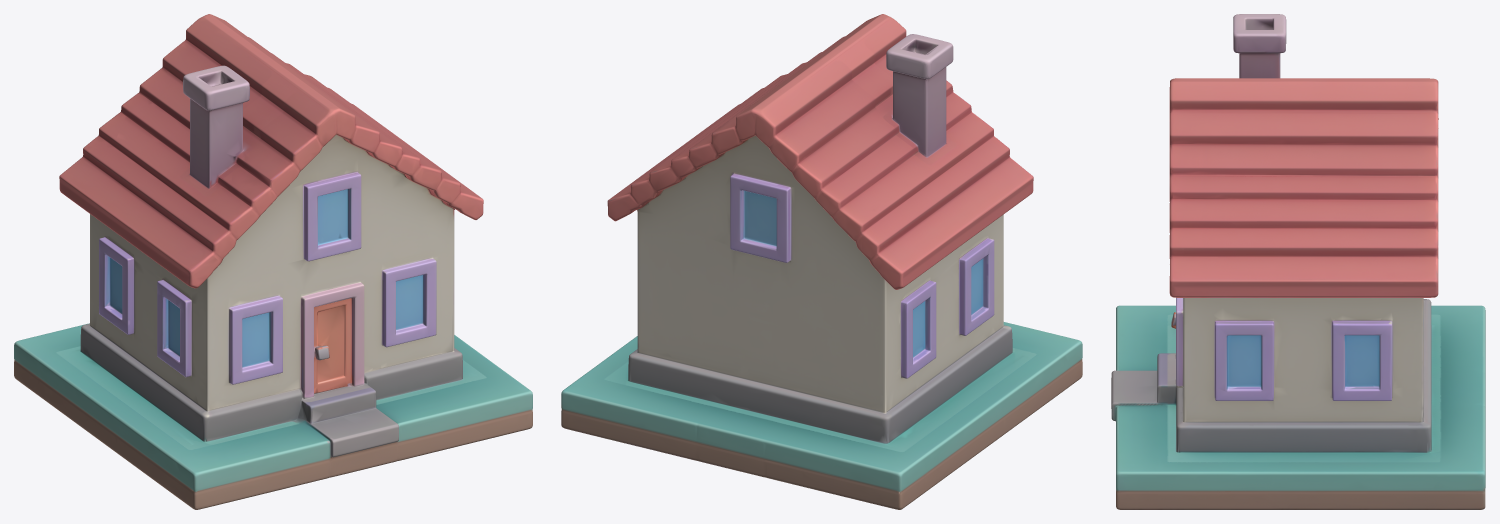
File: konut.glb
The picture shows the model from 3 angles, left to right: view 1: azimuth 30°, elevation 25°; view 2: azimuth 150°, elevation 25°; view 3: azimuth 270°, elevation 25°; orthographic projection.
Visible parts, largest first — view 1: node_0; view 2: node_0; view 3: node_0.
Part boxes in pixels (left/top/right/bottom): node_0: left=14, top=14, right=532, bottom=509; node_0: left=561, top=14, right=1082, bottom=509; node_0: left=1111, top=14, right=1485, bottom=509.
Size of the model in its own units: 0.7091 by 0.7183 by 0.6671.
1 material, 1 textured.
